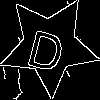D: (24, 20, 70, 74)
